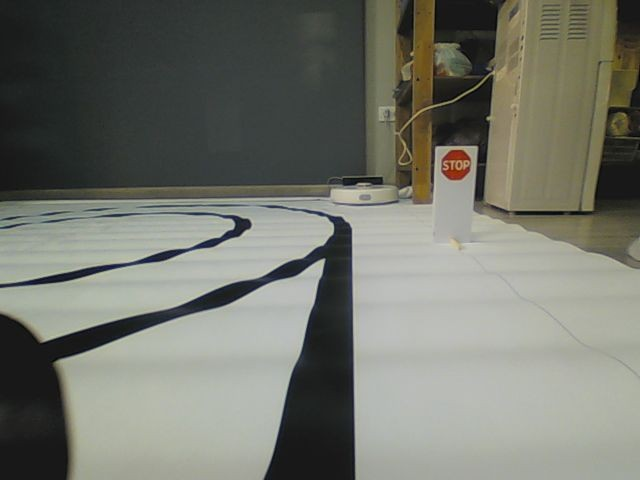Stop: (439, 148, 473, 183)
